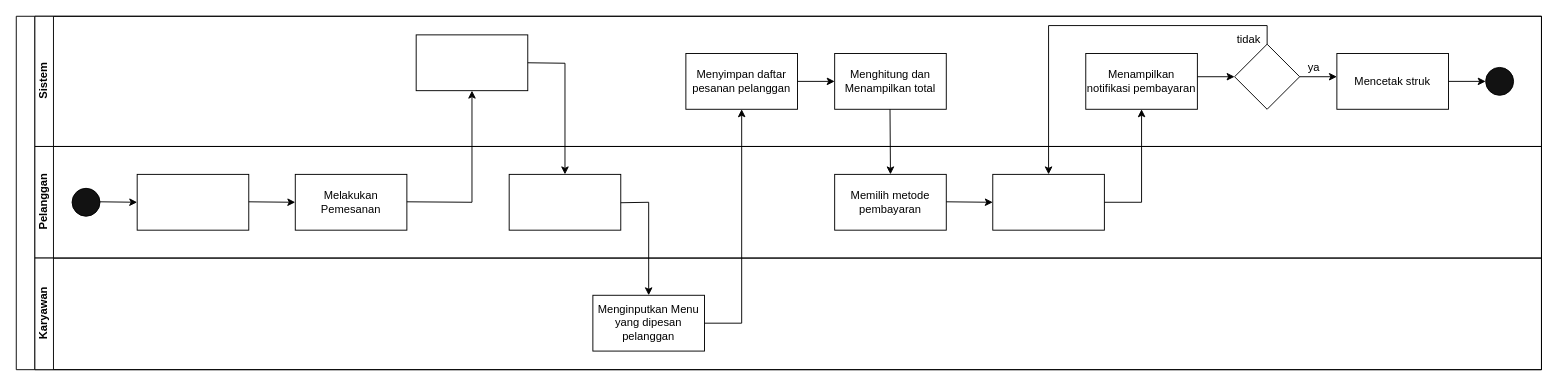
Image size: 1558x386. Some labels were removed from this diagram. Here are the shapes that lost their labels. From the top down, the centre of each, then its label:
the point at 471,62: Menampilkan Menu
the point at 1267,76: Berhasil?
the point at 192,201: Datang ke Warmindo
the point at 564,201: Memilih menu
the point at 1048,201: Melakukan Pembayaran
